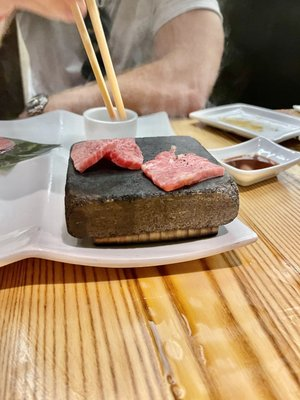sushi: (210, 134, 300, 187), (82, 106, 138, 140)
